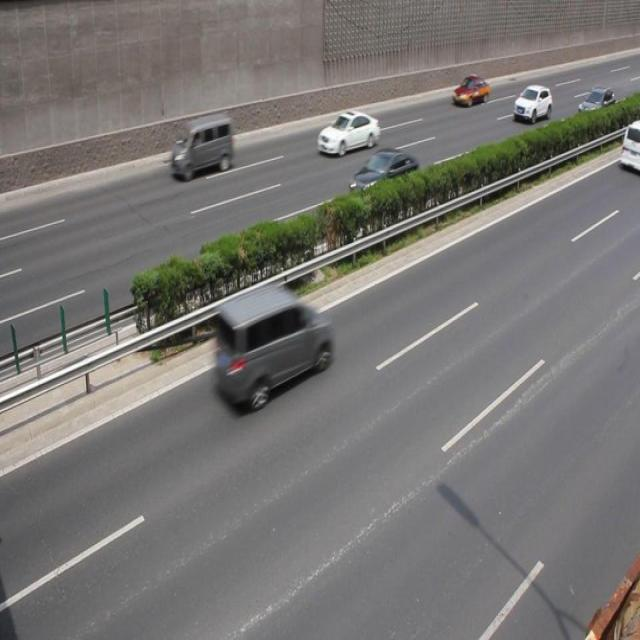car: (212, 282, 332, 413), (346, 146, 418, 206), (315, 109, 380, 159), (511, 84, 551, 122), (577, 86, 615, 126), (451, 75, 489, 108), (618, 120, 640, 172)
truck: (169, 114, 232, 181)
